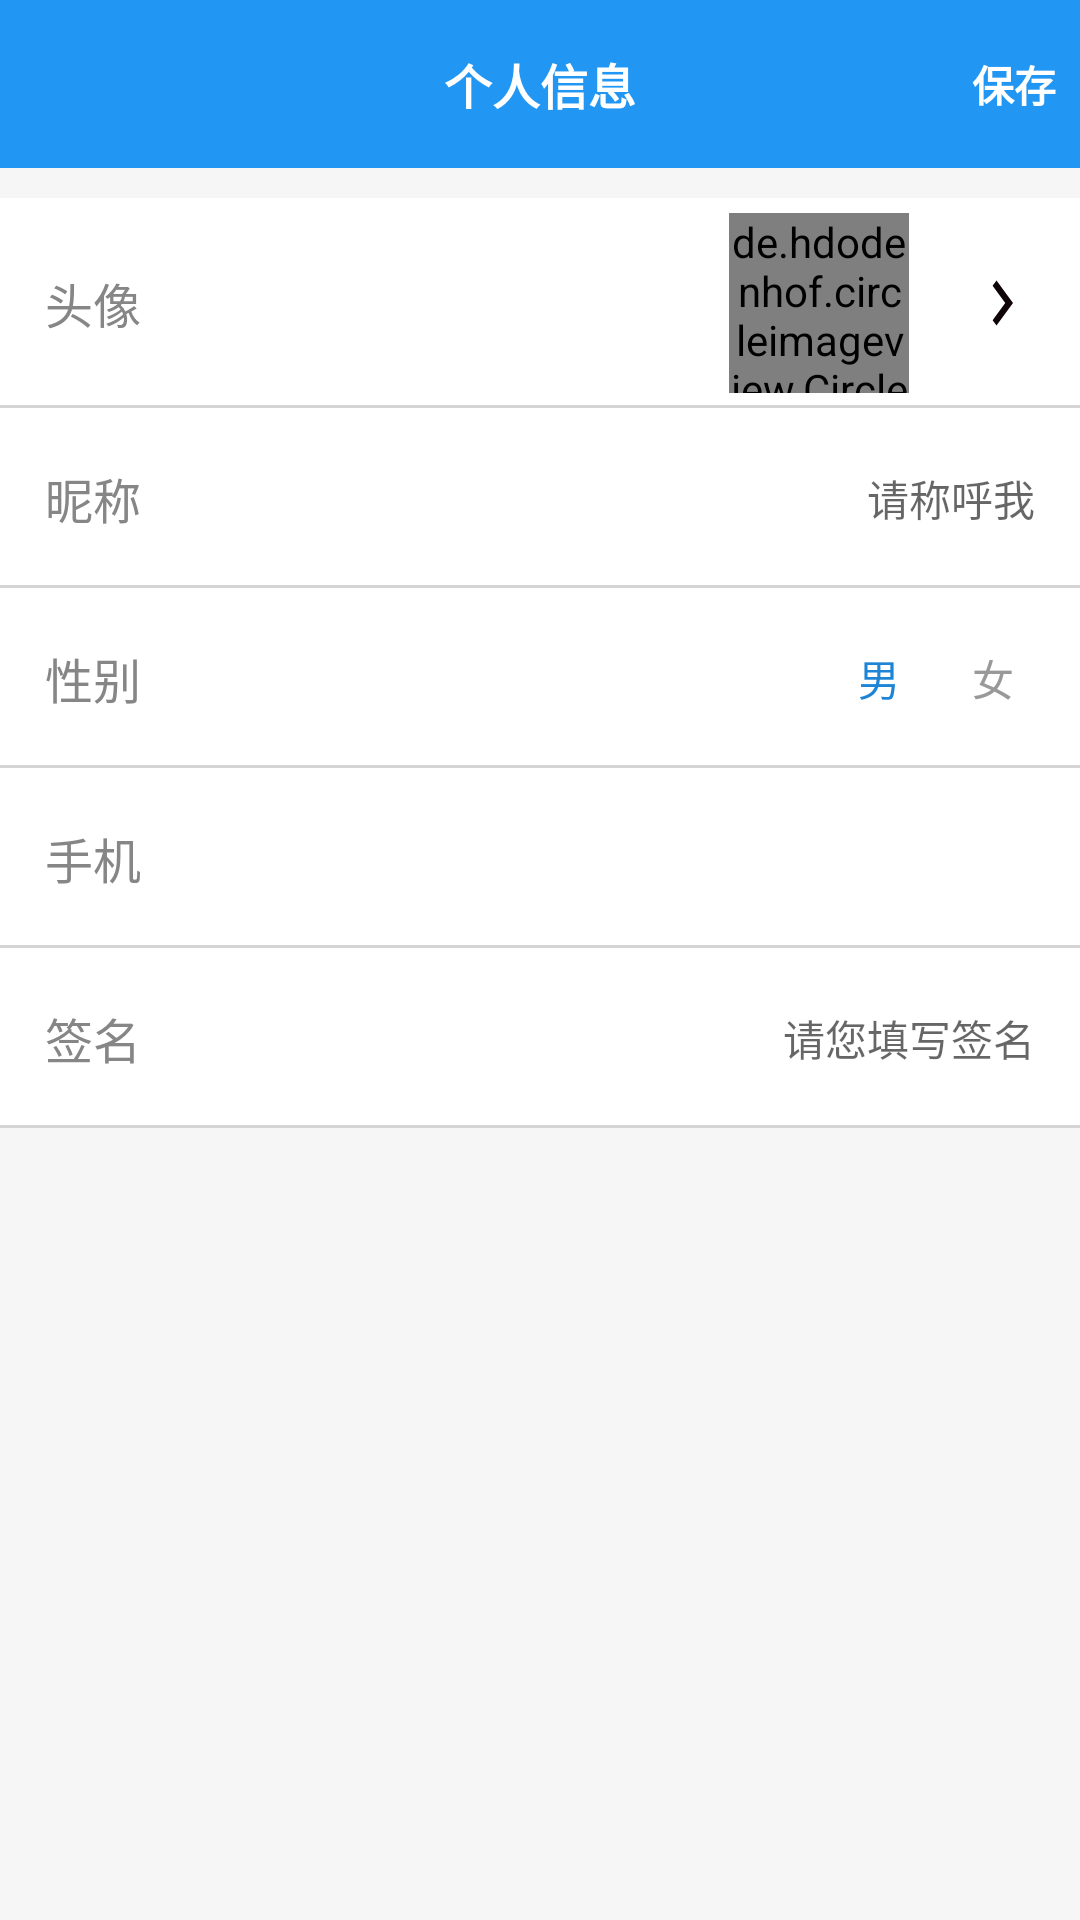

Icon click points for this 1080px x 1920px phone screenshot, format (x=x, y=y):
chevron right: (x=1002, y=303)
